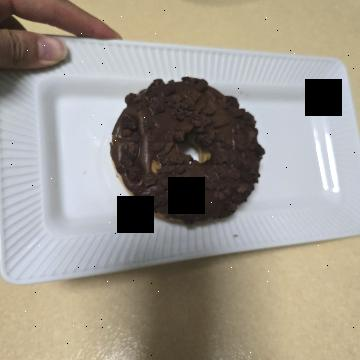doughnut: (69, 86, 248, 262)
